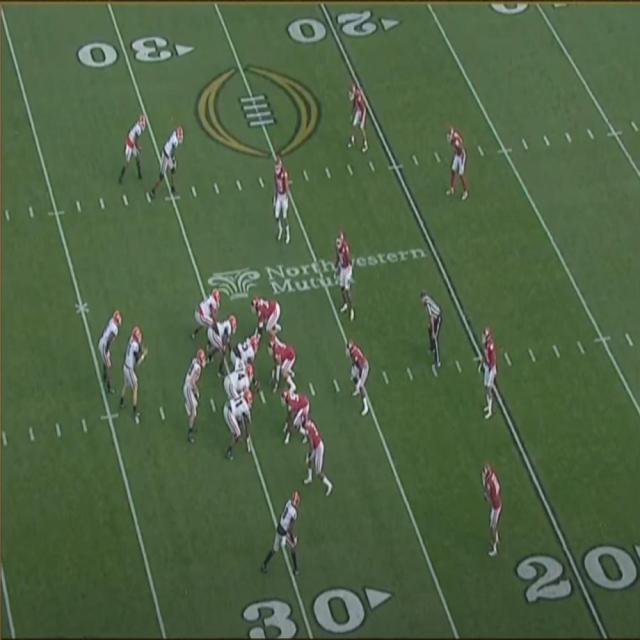center: (234, 338, 258, 367)
db: (483, 464, 499, 556), (348, 85, 368, 147), (448, 129, 466, 195), (484, 330, 496, 413)
lb: (336, 232, 356, 314), (273, 157, 289, 240), (348, 338, 366, 408)
qb: (122, 323, 144, 414)
skill: (270, 494, 298, 574), (181, 349, 205, 438), (302, 413, 328, 486), (98, 311, 120, 392), (159, 123, 182, 194), (123, 114, 145, 182)
